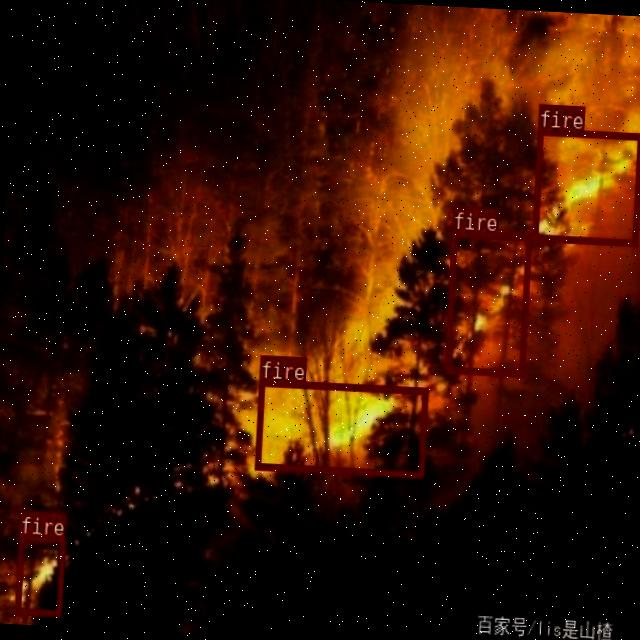fire: (255, 378, 428, 477), (531, 127, 640, 245), (444, 230, 530, 376), (14, 533, 65, 615)
